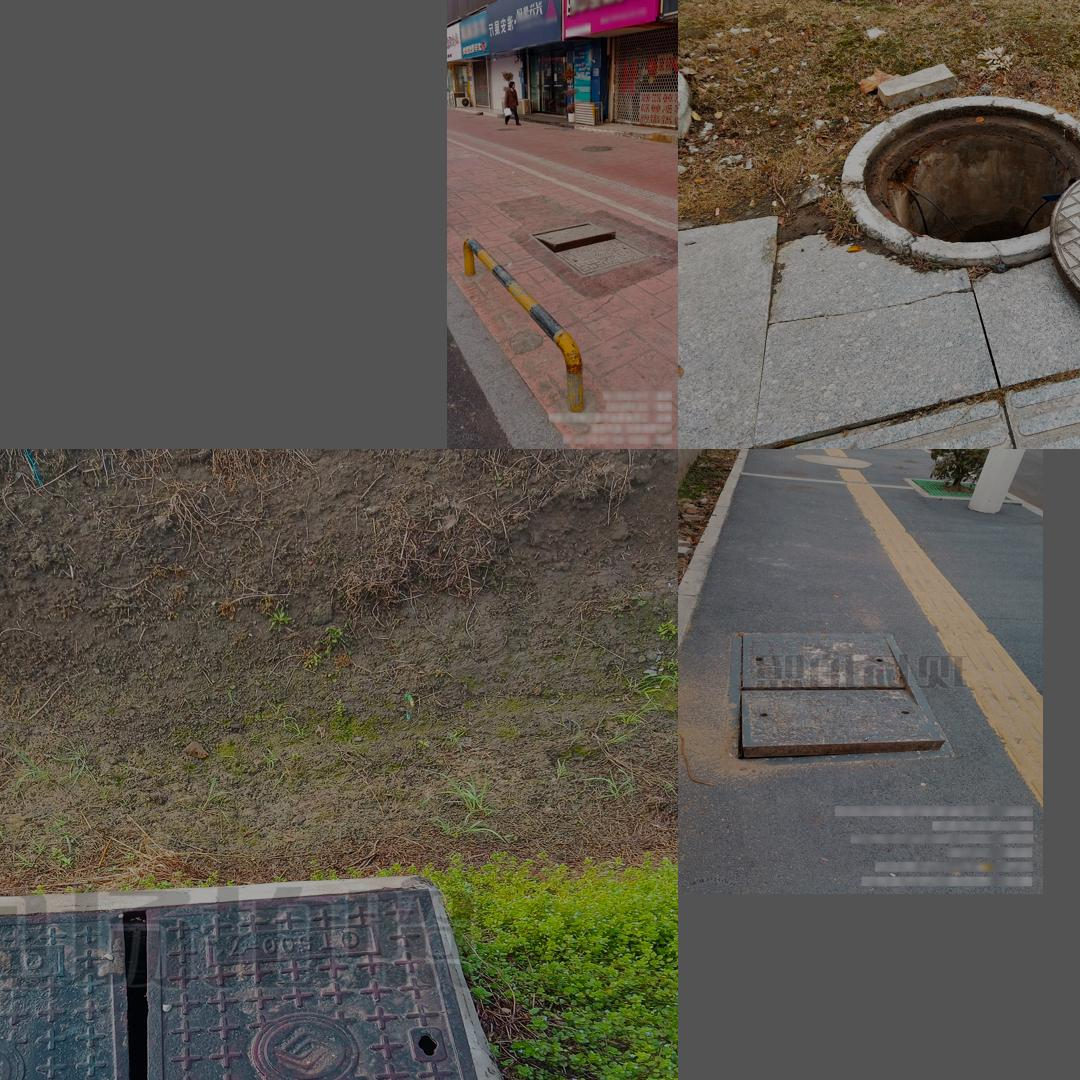uncovered: (0, 906, 540, 1080), (840, 95, 1080, 362), (721, 632, 957, 768), (530, 221, 651, 280)
